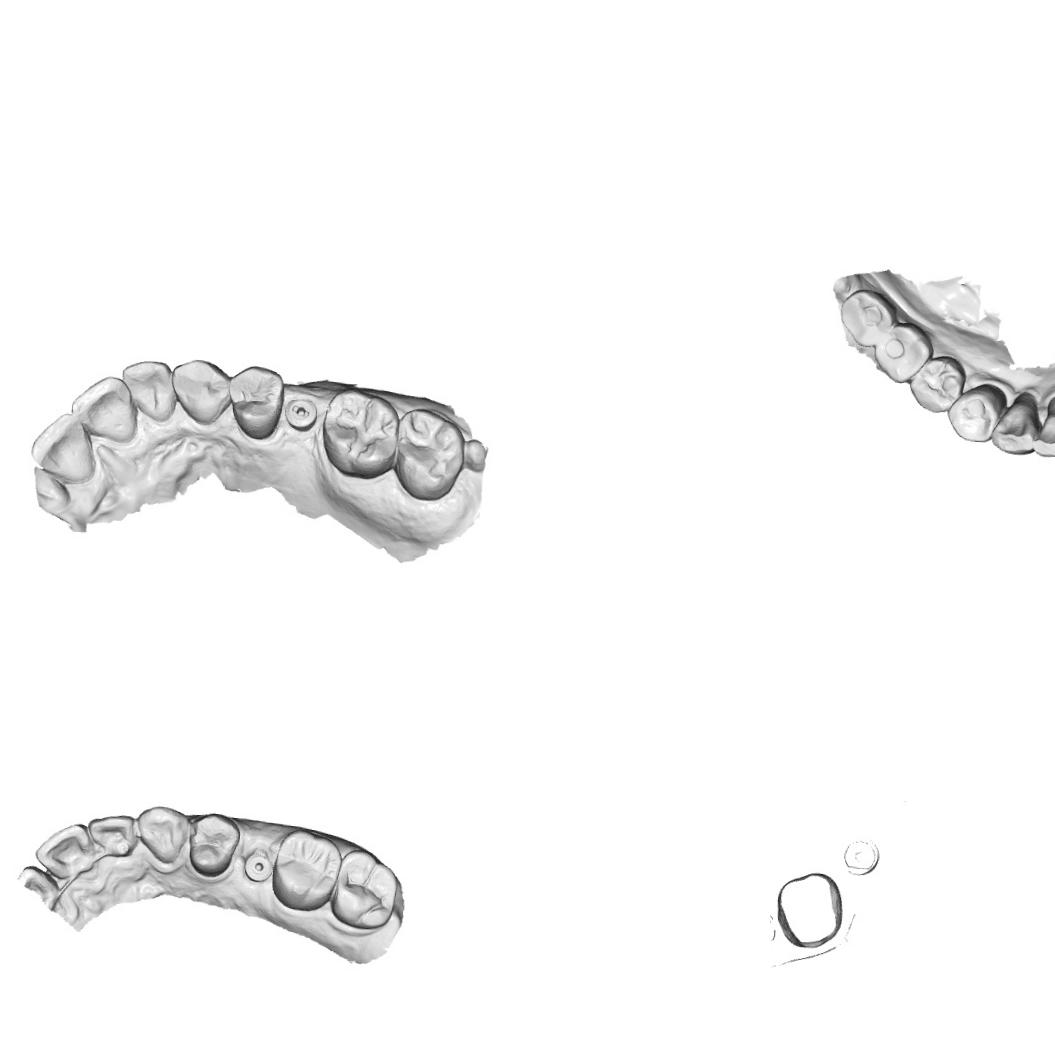canine: (167, 354, 231, 429), (133, 802, 190, 866), (988, 389, 1042, 456)
implant: (242, 850, 272, 884)
implant_minus: (282, 393, 320, 432)
incisor: (27, 406, 100, 485), (66, 372, 141, 445), (116, 357, 178, 424), (32, 820, 96, 880), (86, 812, 138, 859), (1032, 393, 1055, 458)
molar: (317, 384, 404, 480), (390, 403, 466, 504), (270, 826, 344, 914), (328, 847, 400, 931), (871, 319, 934, 384), (836, 286, 898, 348)
premolar: (224, 359, 286, 442), (944, 380, 1008, 443), (907, 352, 966, 414), (186, 812, 240, 878)
